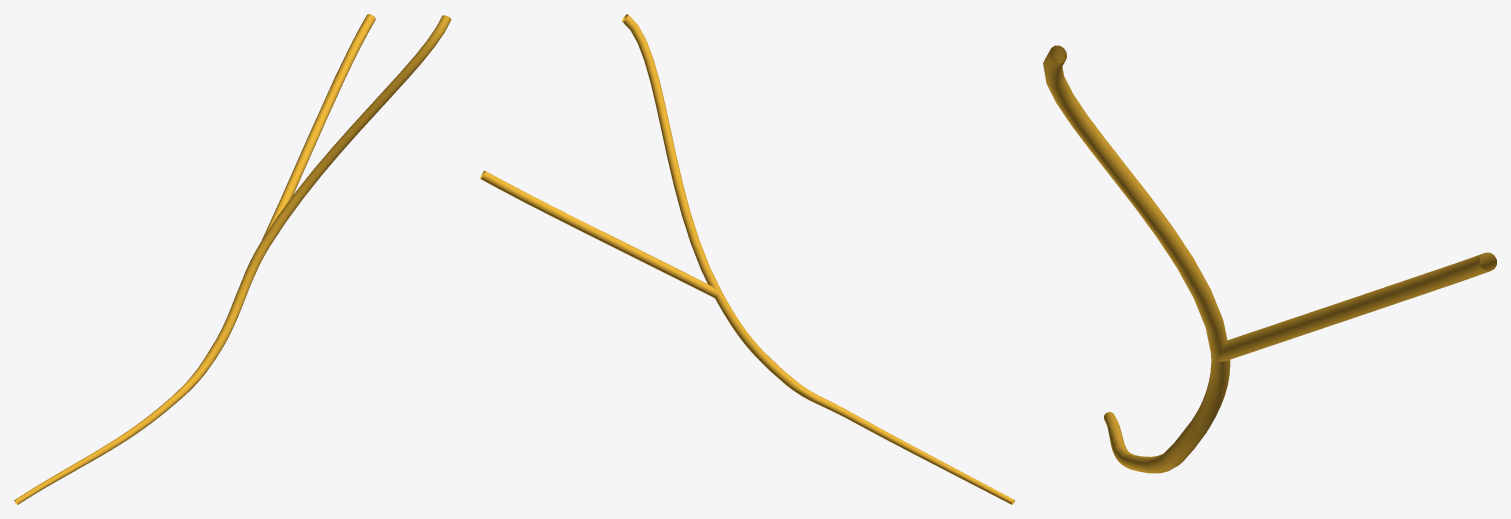
File: nervoso-nerve-to-piriformis-muscle-r.glb
3 renders of one model, left to right at view 1: azimuth 30°, elevation 25°; view 2: azimuth 150°, elevation 25°; view 3: azimuth 270°, elevation 25°, orthographic. The views are drawn at different scales.
Parts seen in each view (by area): view 1: Nerve to piriformis muscle.r; view 2: Nerve to piriformis muscle.r; view 3: Nerve to piriformis muscle.r.
Part boxes in pixels (x1,y1,x2,y2): Nerve to piriformis muscle.r: (14, 14, 451, 504); Nerve to piriformis muscle.r: (480, 14, 1014, 504); Nerve to piriformis muscle.r: (1043, 45, 1496, 473).
Bounding box in the file's own units: 0.0526 × 0.0438 × 0.0235.
